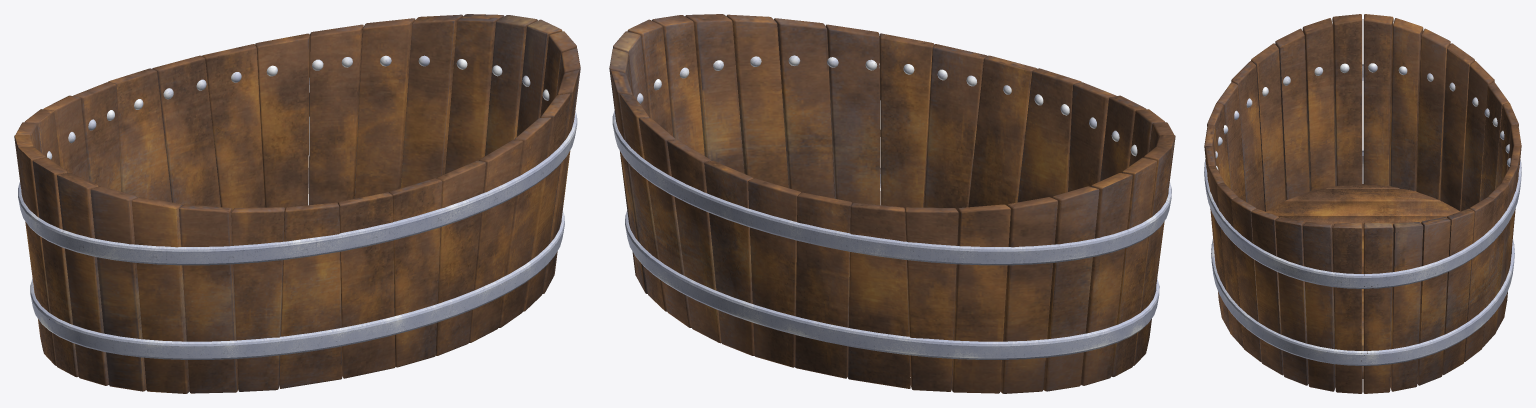
Rendered from medieval_balia.glb.
3 views of the same model, side by side, from view 1: azimuth 30°, elevation 25°; view 2: azimuth 150°, elevation 25°; view 3: azimuth 270°, elevation 25° (orthographic). The views are drawn at different scales.
Parts seen in each view (by area): view 1: SM_Balia; view 2: SM_Balia; view 3: SM_Balia.
Part boxes in pixels (<box>): SM_Balia: <box>14,14,580,393</box>; SM_Balia: <box>609,14,1175,393</box>; SM_Balia: <box>1204,14,1521,393</box>.
Size of the model in its own units: 3.49 by 1.34 by 2.19.
1 material, 1 textured.
